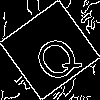Q: (25, 25, 85, 88)
